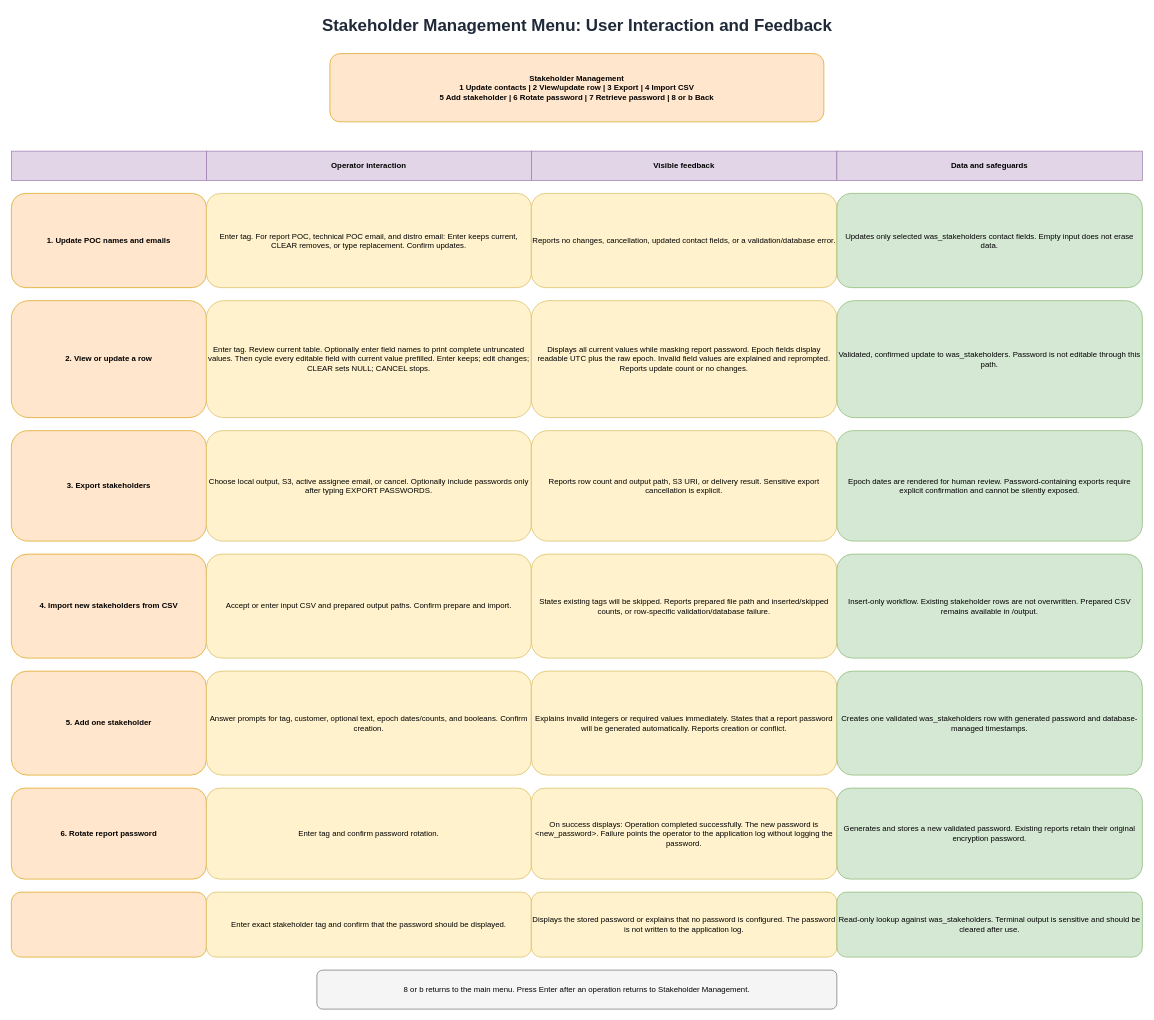
The diagram is 1154 pixels wide and 1020 high, and some of its shapes have lost their labels. The shapes that lost their labels are listed below. From the top down, each one's centre as x and y in pixels, then its label:
point (108, 165): Menu choice
point (108, 924): 7. Retrieve report password
